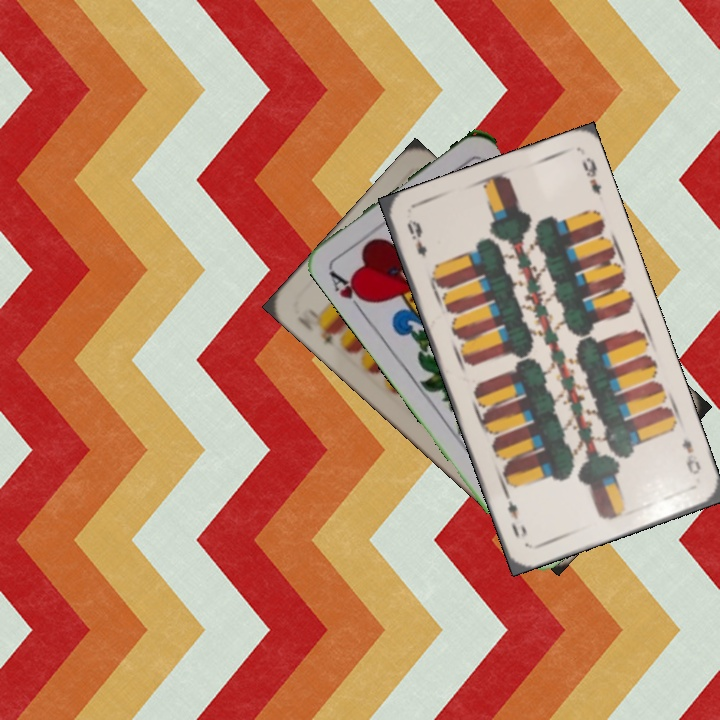E10: (307, 318, 343, 348)
E9: (402, 215, 430, 260), (677, 435, 704, 477)
HA: (324, 266, 374, 316)
